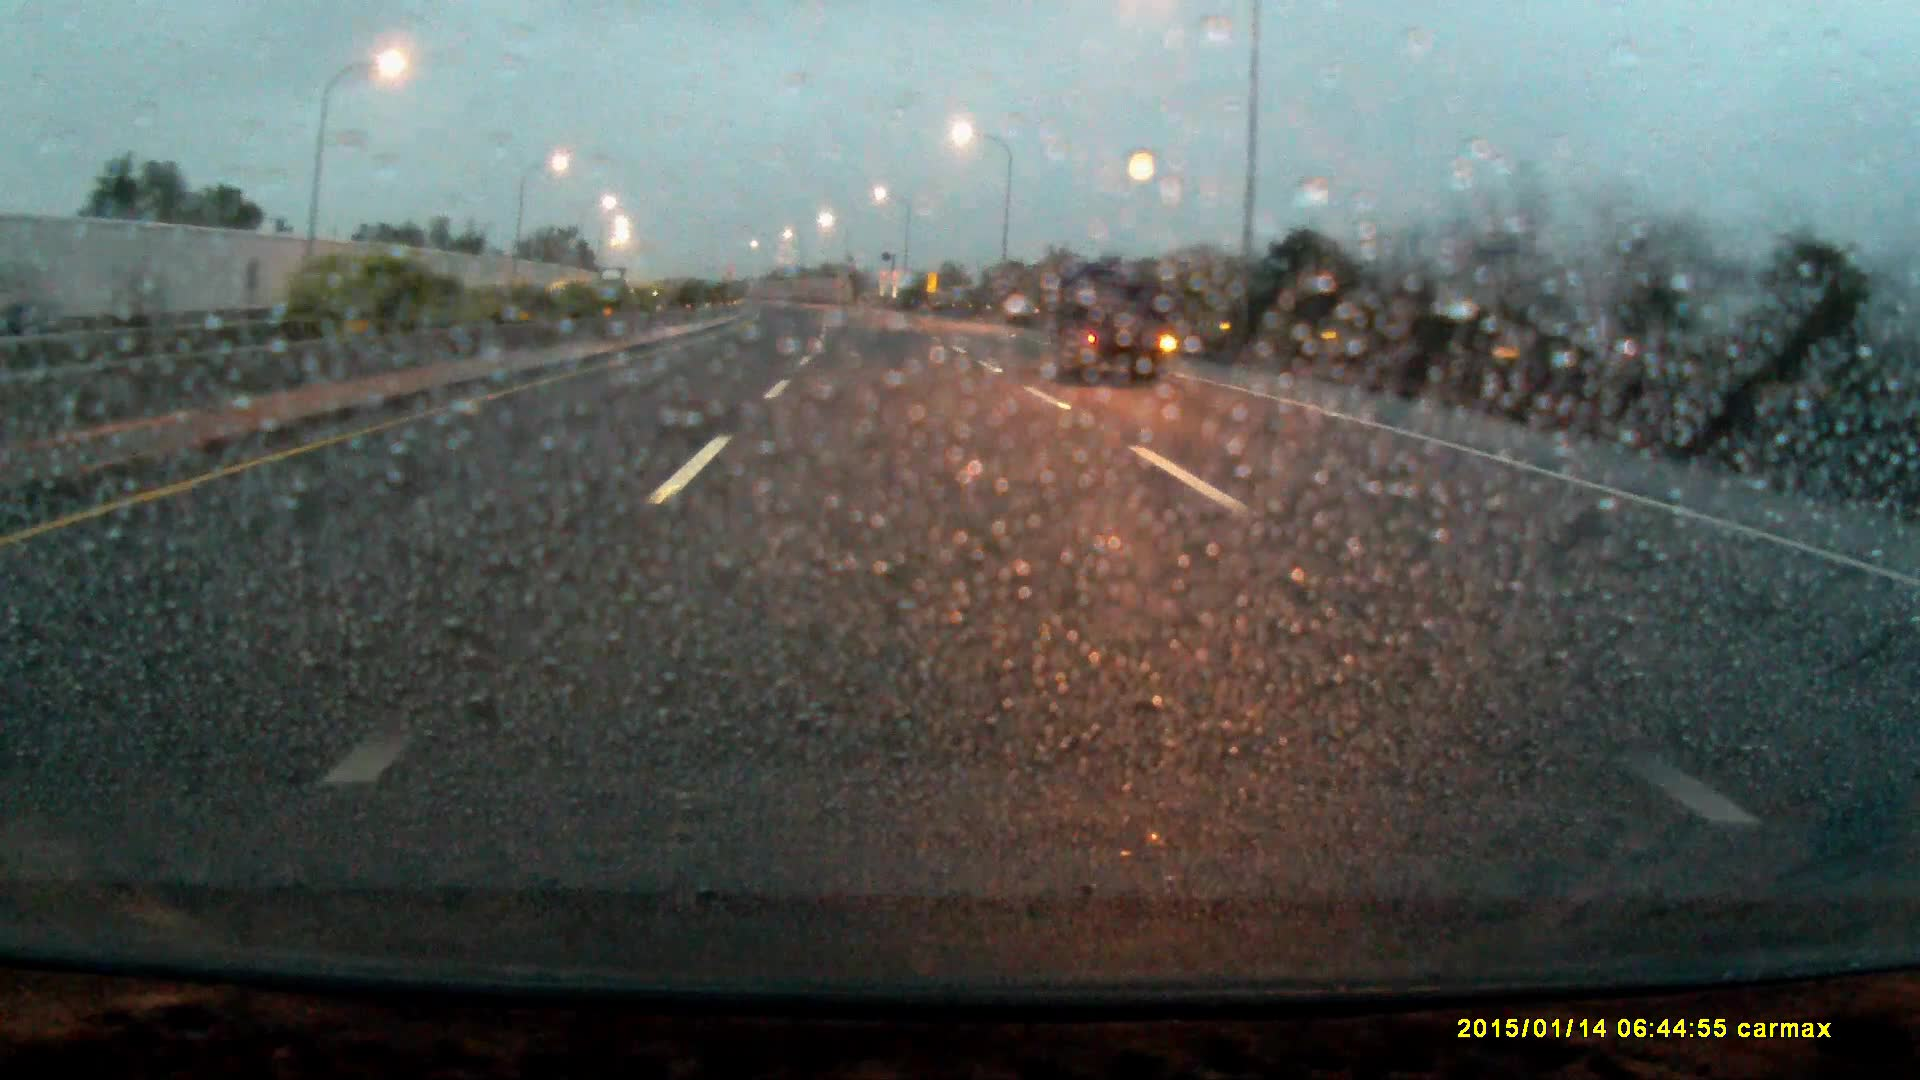vehicle: (1048, 261, 1178, 386), (597, 266, 626, 299)
